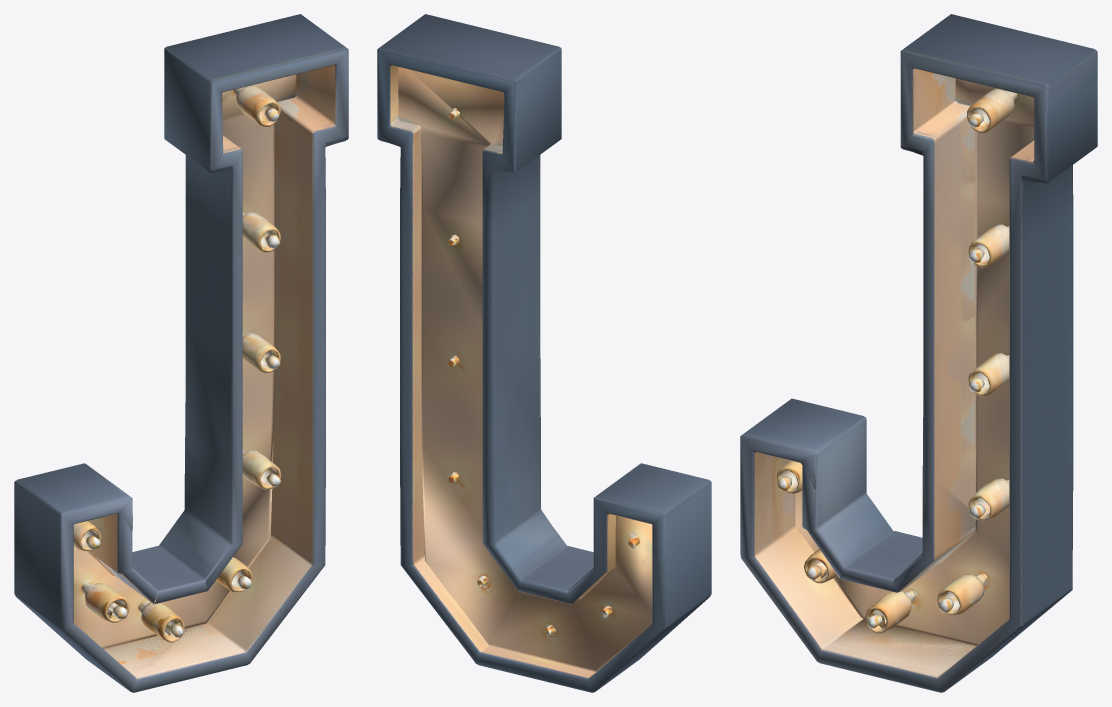
File: Letter_J.glb
The picture shows the model from 3 angles, left to right: view 1: azimuth 30°, elevation 25°; view 2: azimuth 150°, elevation 25°; view 3: azimuth 330°, elevation 25°; orthographic projection. The views are drawn at different scales.
Parts seen in each view (by area): view 1: Mesh_0; view 2: Mesh_0; view 3: Mesh_0.
Part boxes in pixels (bbox=[...]): Mesh_0: bbox=[14, 14, 348, 692]; Mesh_0: bbox=[377, 14, 711, 692]; Mesh_0: bbox=[740, 14, 1097, 692].
Size of the model in its own units: 0.4638 by 0.9144 by 0.1333.
Materials: 1 (1 with a texture image).
